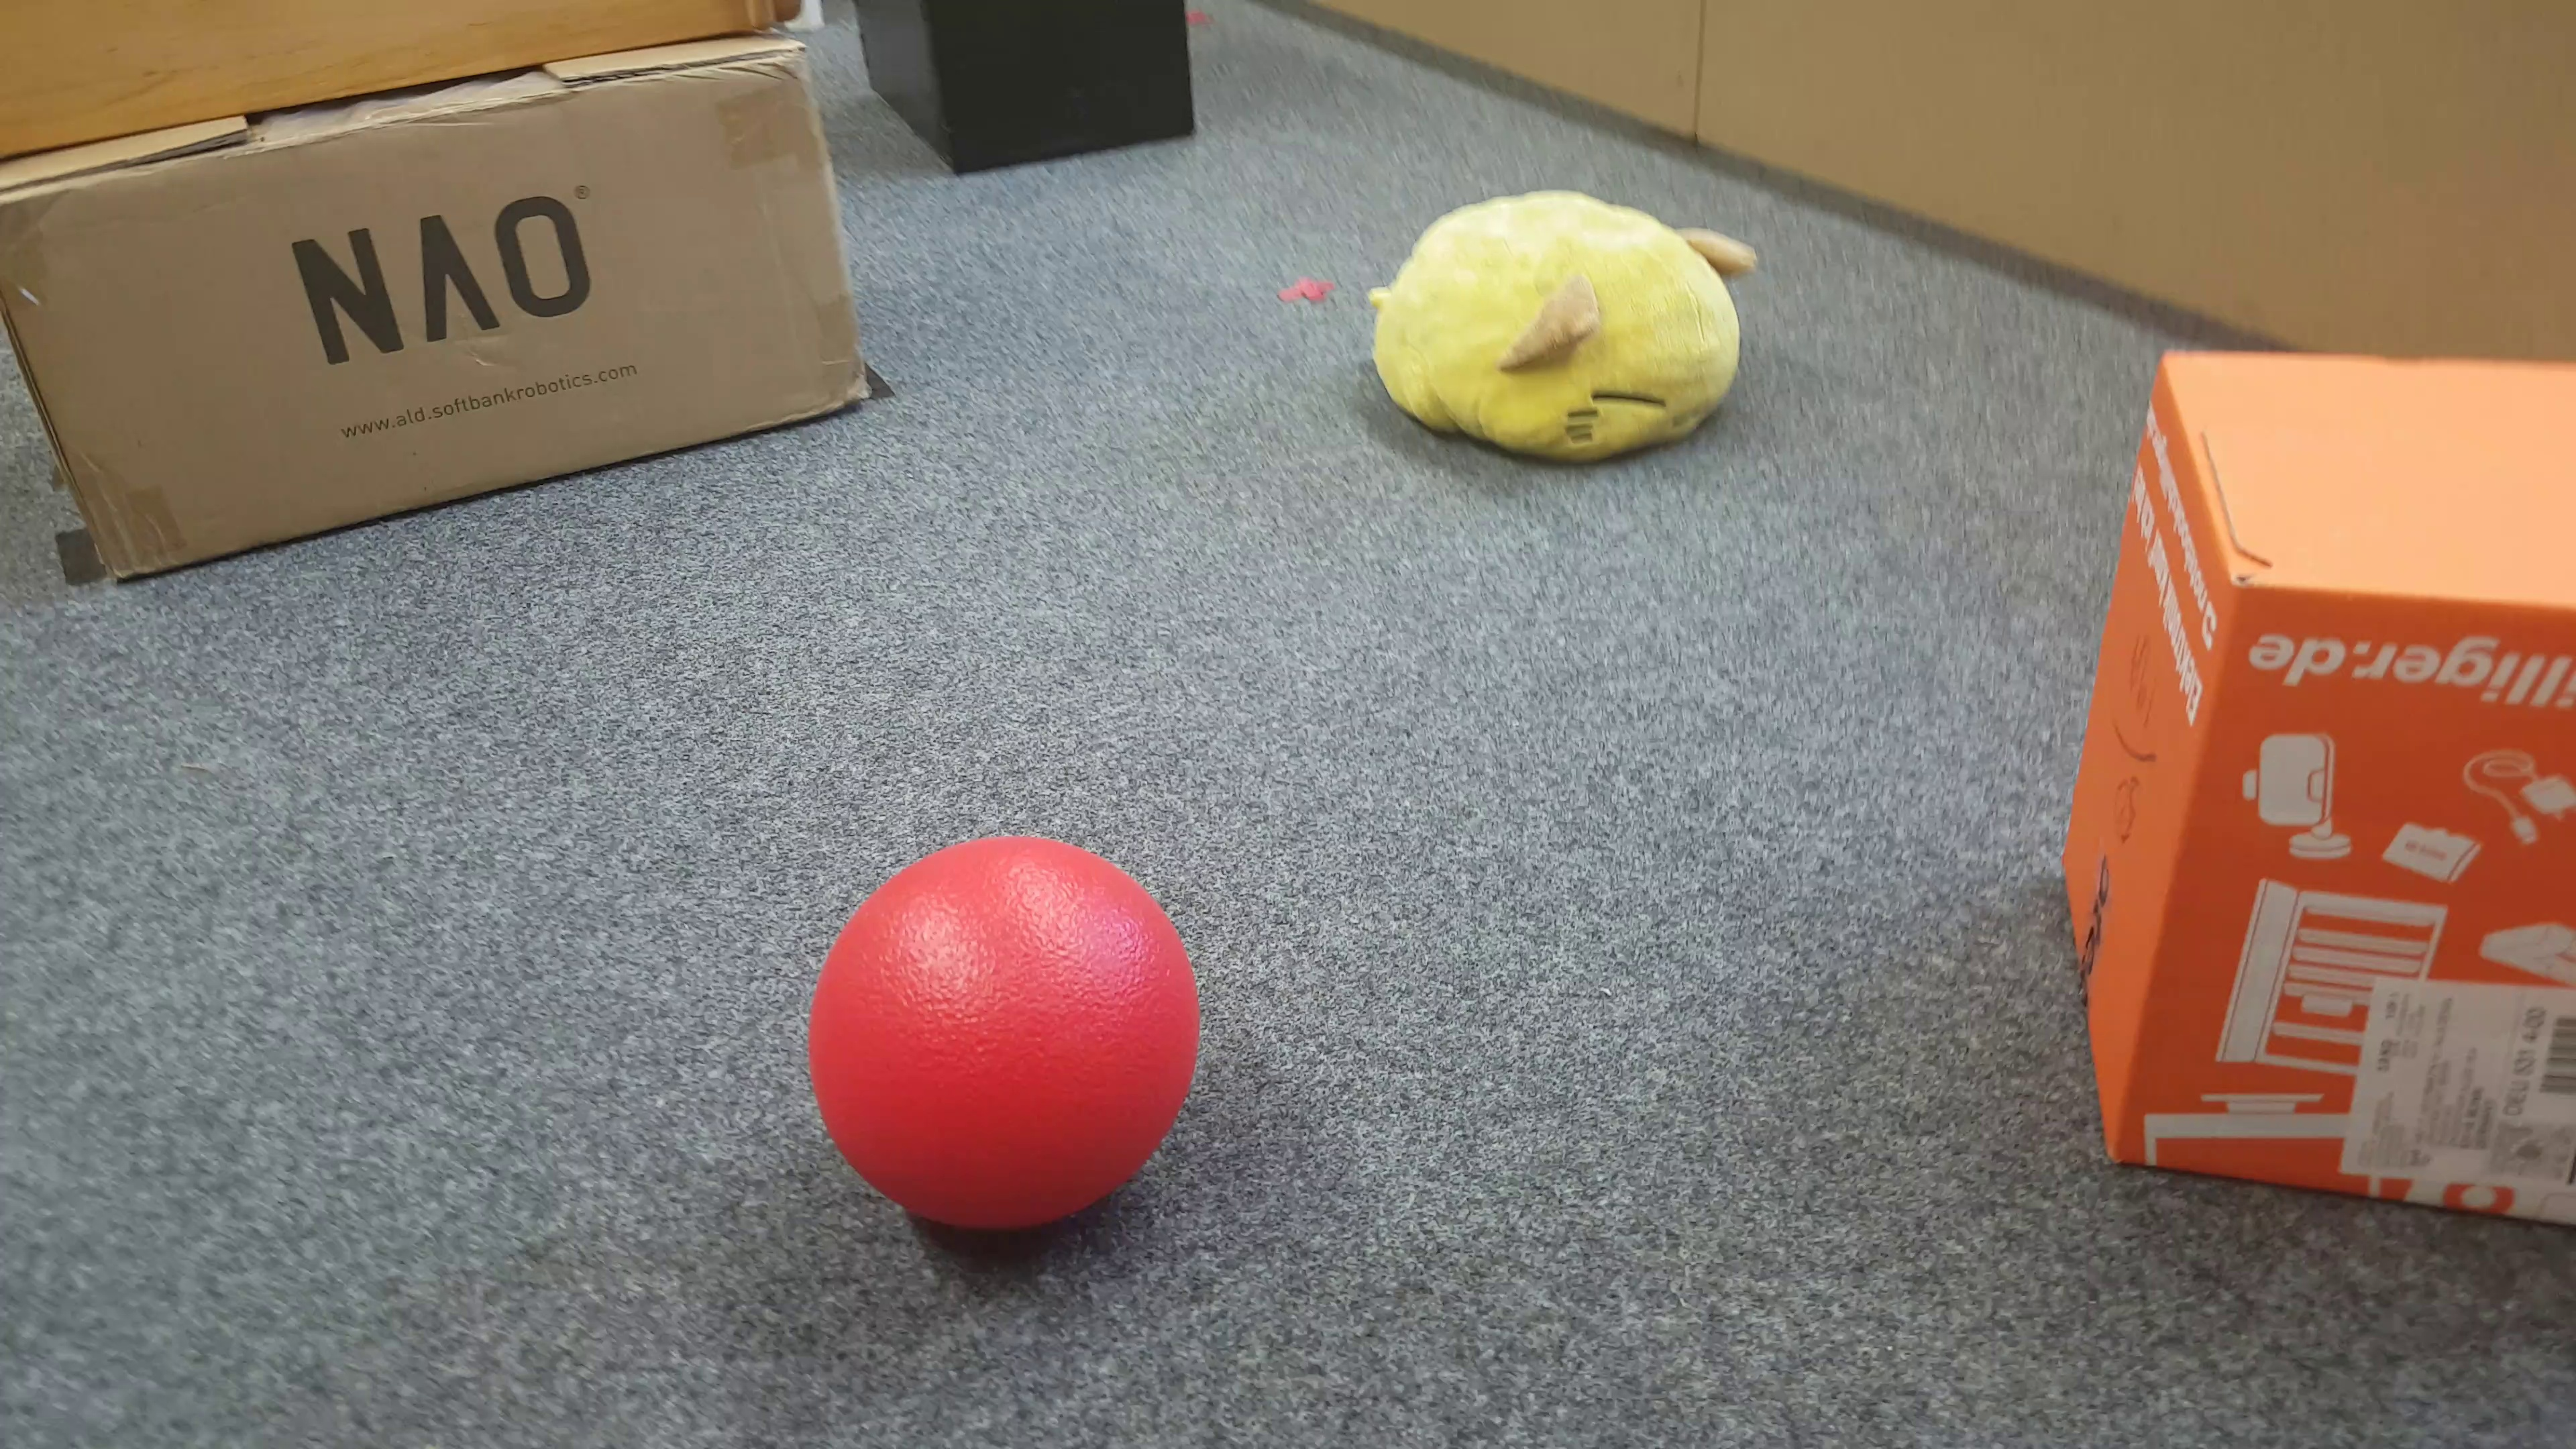grasp: (1364, 184, 1748, 478)
kick: (807, 840, 1205, 1228)
push: (2061, 352, 2576, 1242), (858, 0, 1207, 188)
